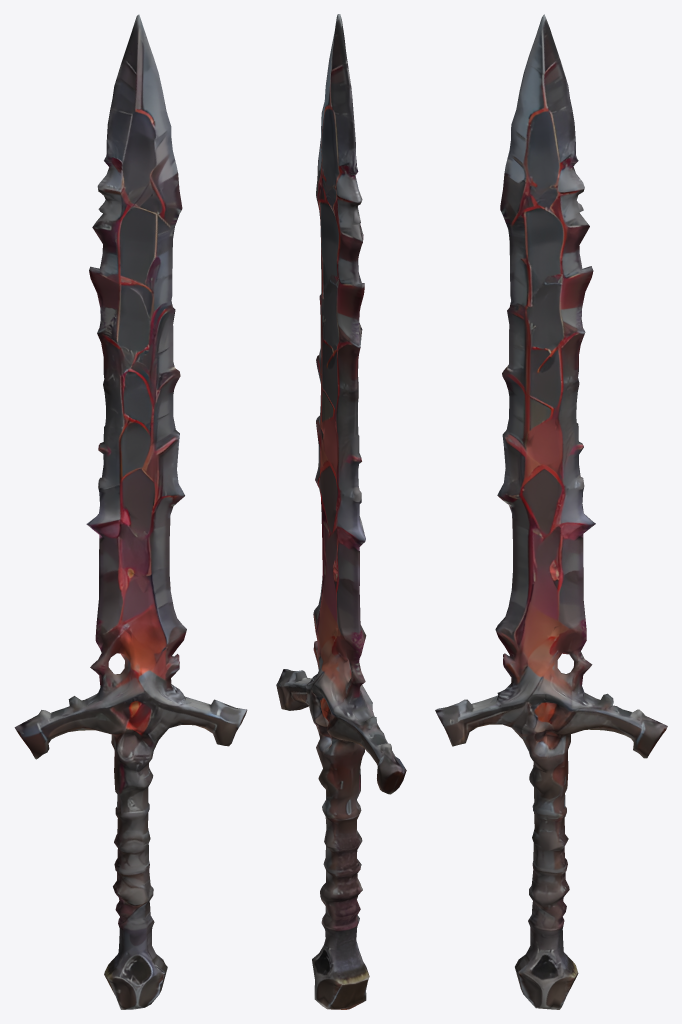
File: wpn_abyssedge.glb
3 renders of one model, left to right at view 1: azimuth 90°, elevation 25°; view 2: azimuth 210°, elevation 25°; view 3: azimuth 270°, elevation 25°, orthographic.
Parts seen in each view (by area): view 1: tripo_node_f8f45da5-fd92-43bd-bc84-dc040022fea8; view 2: tripo_node_f8f45da5-fd92-43bd-bc84-dc040022fea8; view 3: tripo_node_f8f45da5-fd92-43bd-bc84-dc040022fea8.
Part boxes in pixels (x1,y1,x2,y2): tripo_node_f8f45da5-fd92-43bd-bc84-dc040022fea8: (14, 14, 247, 1009); tripo_node_f8f45da5-fd92-43bd-bc84-dc040022fea8: (276, 14, 406, 1009); tripo_node_f8f45da5-fd92-43bd-bc84-dc040022fea8: (435, 14, 667, 1009).
Size of the model in its own units: 0.05 by 0.9993 by 0.2129.
1 material, 1 textured.
